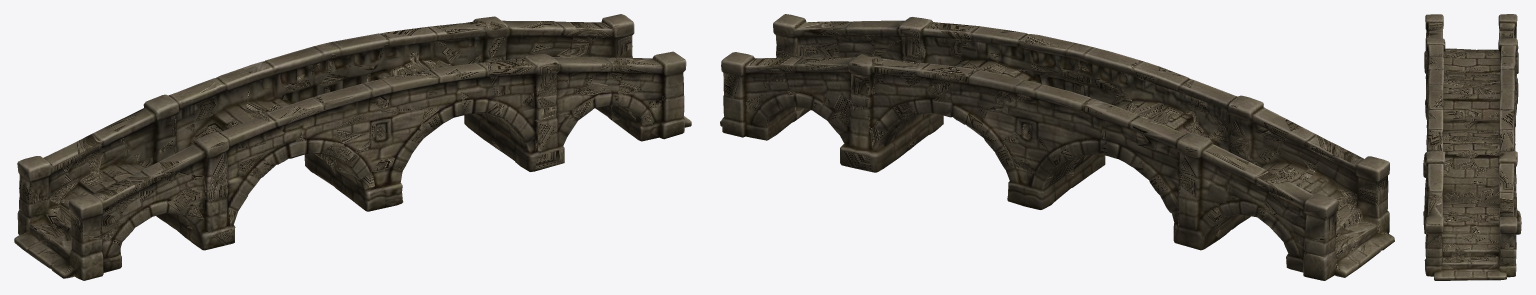
Rendered from lib_stone_bridge.lod.glb.
3 renders of one model, left to right at view 1: azimuth 30°, elevation 25°; view 2: azimuth 150°, elevation 25°; view 3: azimuth 270°, elevation 25°, orthographic. The views are drawn at different scales.
Parts seen in each view (by area): view 1: mesh_node; view 2: mesh_node; view 3: mesh_node.
Boxes of the visible parts, bbox=[...] form: mesh_node: bbox=[14, 14, 691, 280]; mesh_node: bbox=[720, 14, 1394, 280]; mesh_node: bbox=[1423, 14, 1521, 280].
Size of the model in its own units: 1.9 by 0.3414 by 0.3592.
1 material, 1 textured.
